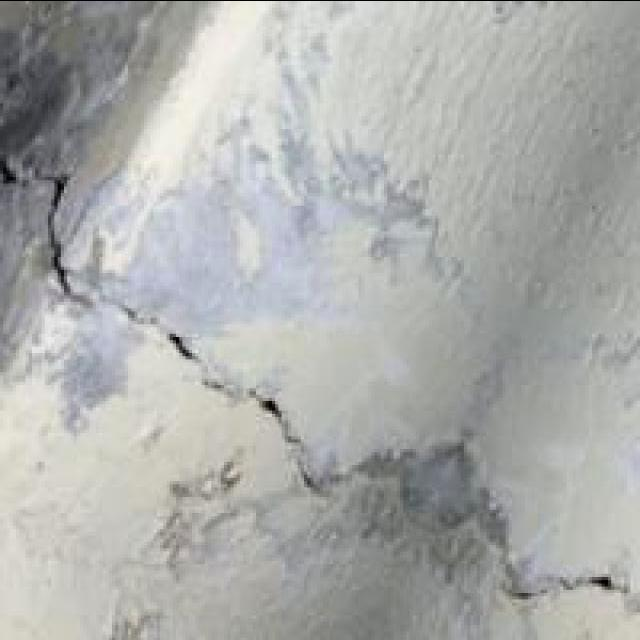SurfaceCrack: (4, 120, 340, 512), (496, 542, 628, 632)
